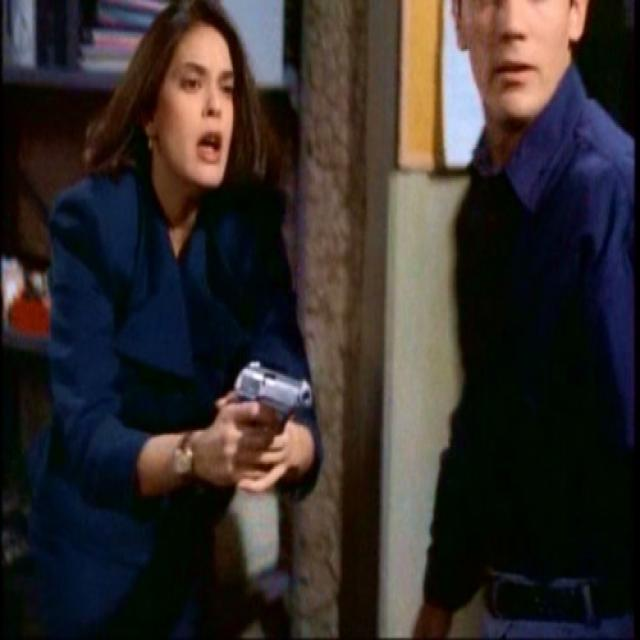weapons: (214, 338, 318, 479)
